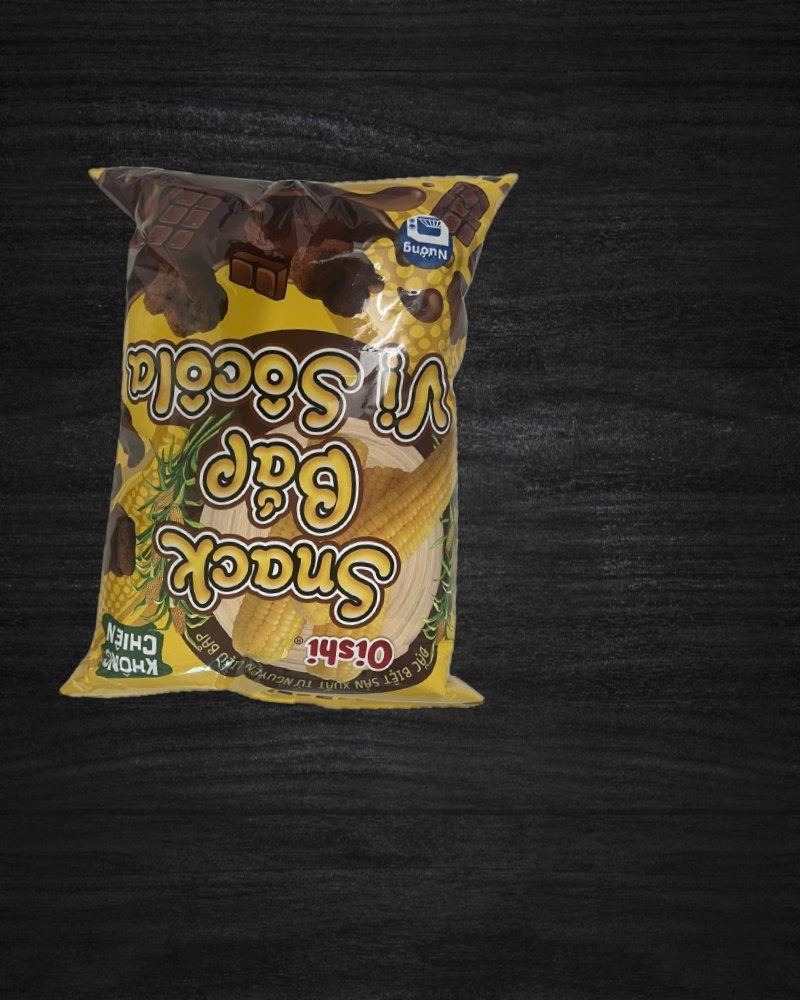Snack socola: (44, 140, 531, 732)
